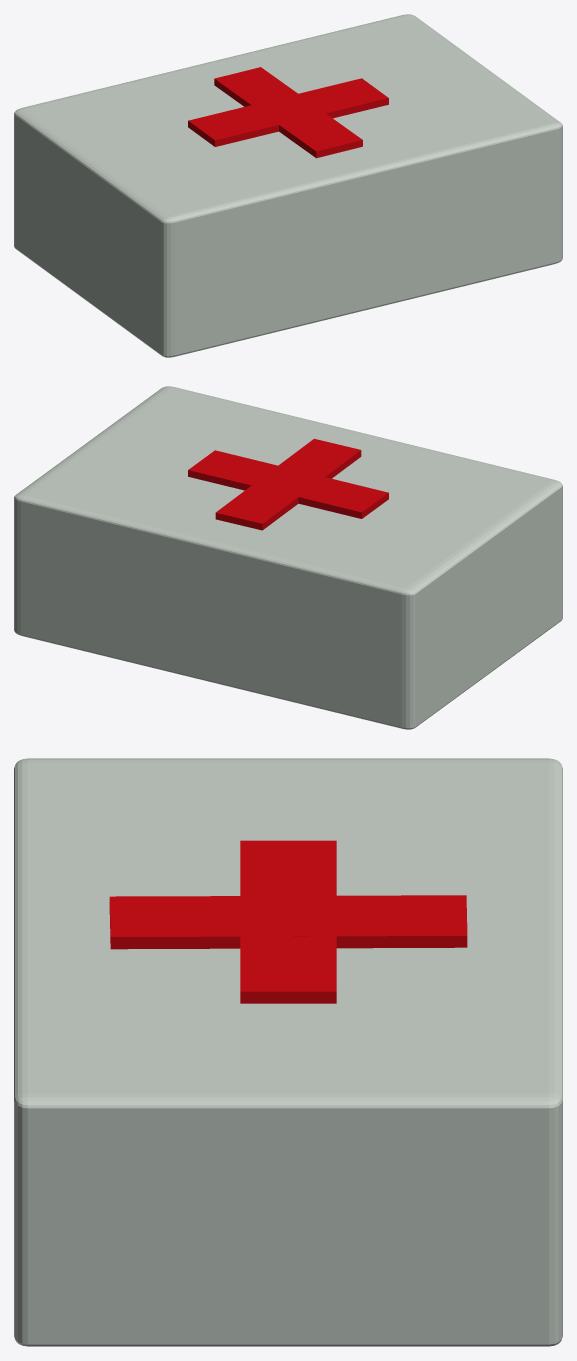
File: aid_kit.fbx
The picture shows the model from 3 angles, top to bottom: view 1: azimuth 30°, elevation 25°; view 2: azimuth 150°, elevation 25°; view 3: azimuth 270°, elevation 25°; orthographic projection. The views are drawn at different scales.
Visible parts, largest first — view 1: Cube, Cube.002, Cube.001; view 2: Cube, Cube.002, Cube.001; view 3: Cube, Cube.002, Cube.001.
Part boxes in pixels (bbox=[...]): Cube: bbox=[14, 14, 562, 357]; Cube.002: bbox=[214, 67, 362, 158]; Cube.001: bbox=[188, 78, 388, 146]; Cube: bbox=[14, 386, 562, 729]; Cube.002: bbox=[215, 438, 361, 530]; Cube.001: bbox=[188, 450, 388, 518]; Cube: bbox=[14, 758, 562, 1346]; Cube.002: bbox=[109, 895, 467, 949]; Cube.001: bbox=[240, 840, 336, 1003].
Bounding box in the file's own units: 600 × 210 × 400.
